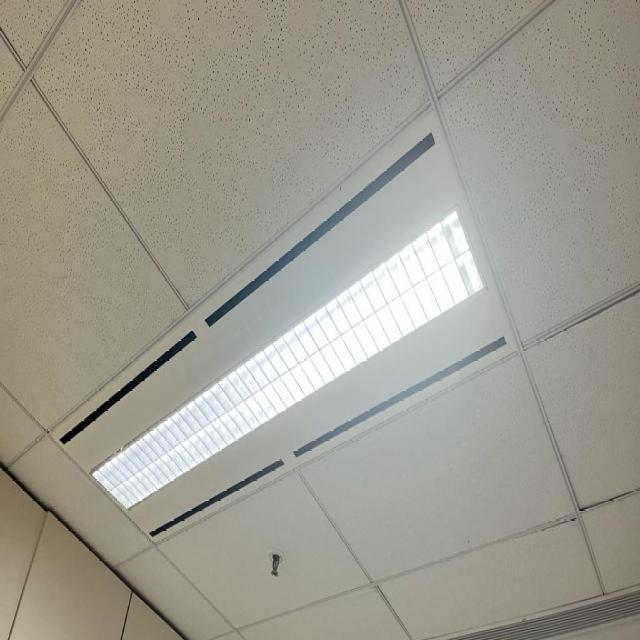Light-Opened: (45, 99, 522, 545)
